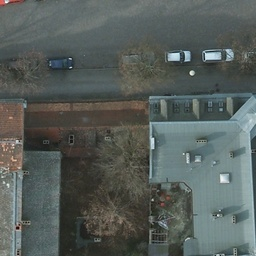car: (6, 54, 37, 75), (119, 54, 151, 71), (202, 47, 234, 63), (46, 55, 73, 72), (165, 49, 191, 66), (0, 0, 26, 6), (33, 0, 63, 1)
